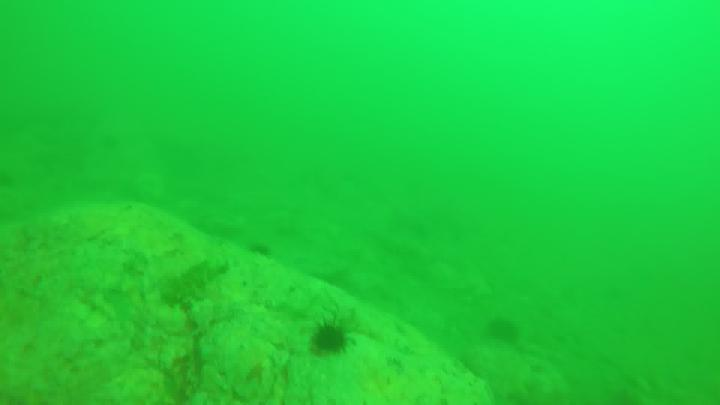echinus: (309, 321, 355, 360), (494, 322, 525, 343)
holothurian: (164, 258, 227, 309)
